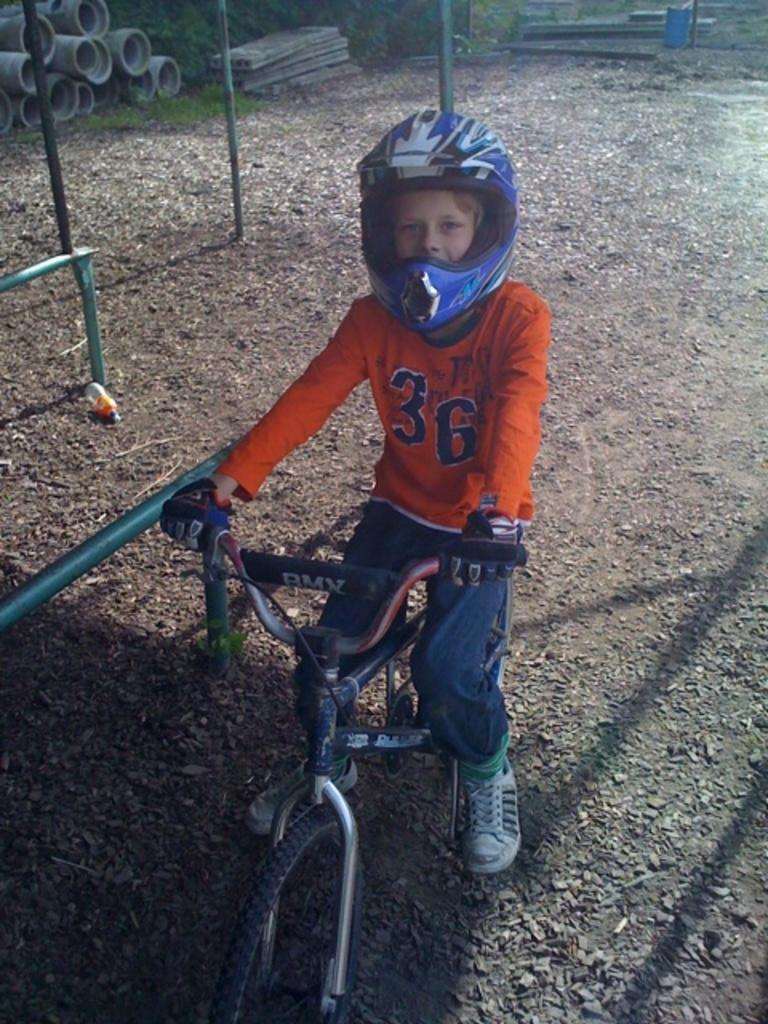helmet: (357, 104, 522, 336)
